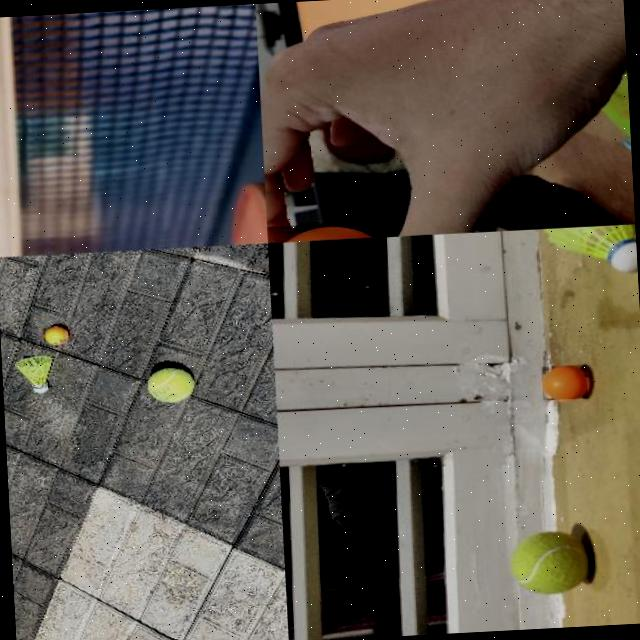ping-pong-ball: (542, 363, 590, 401), (44, 326, 68, 342)
